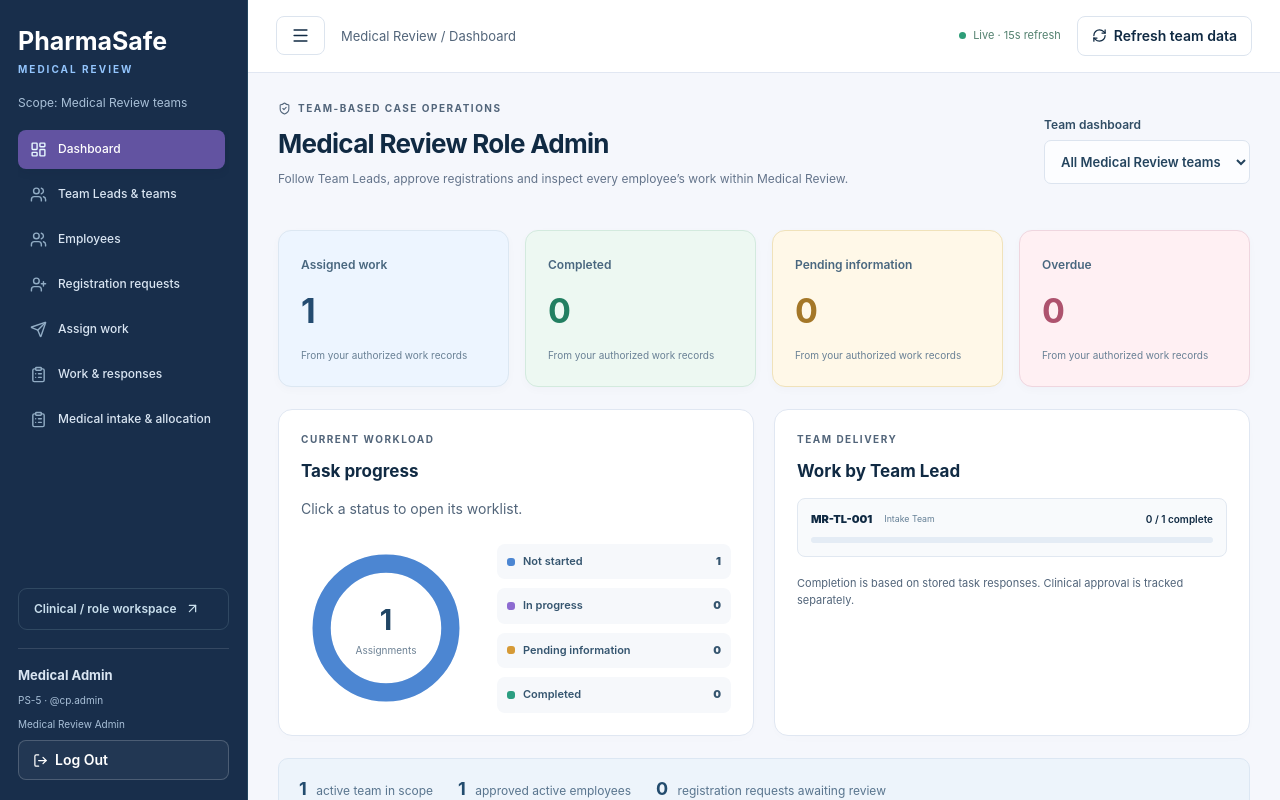
Scenario: admin creates a separate Team Lead account through the controlled form
Later steps or results of the test are not shown.
Click the button "Team Leads & teams" at coordinates (122, 195), box [18,175,225,214]
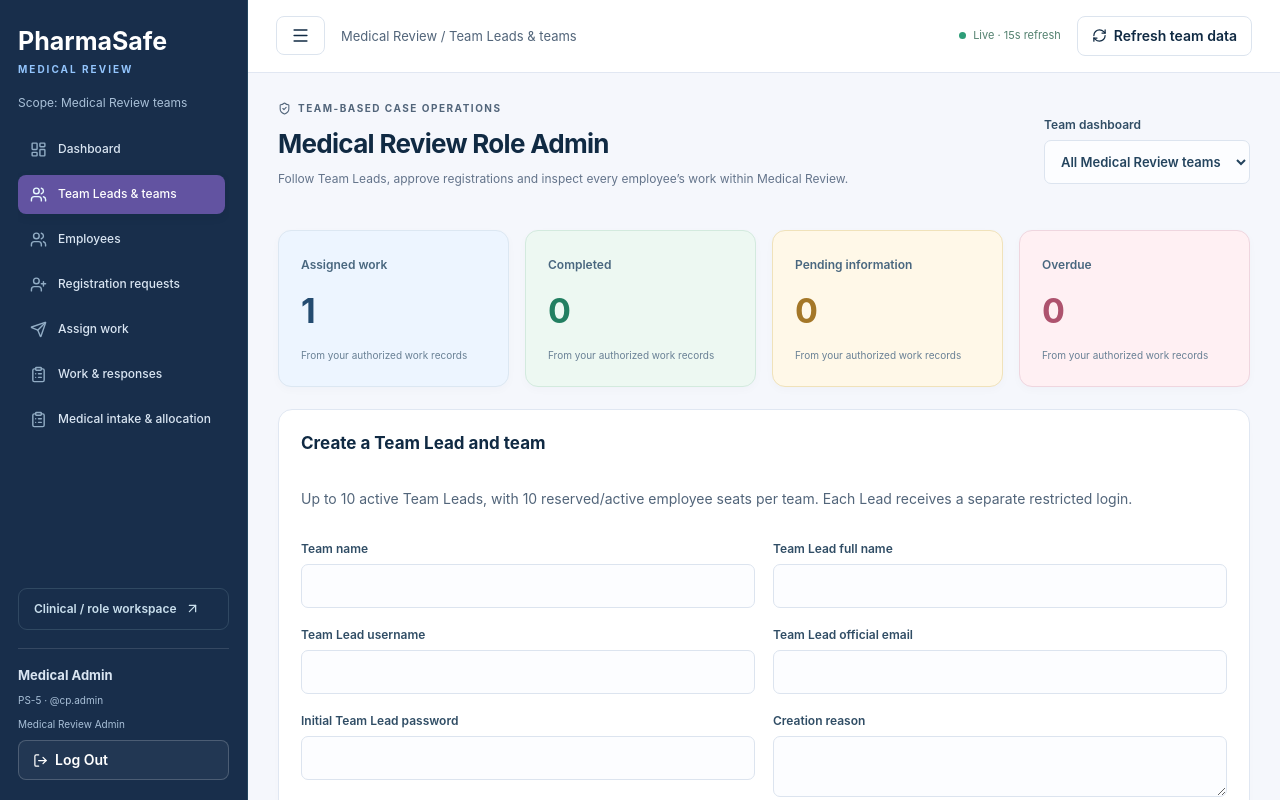
Check: the heading "Create a Team Lead and team" is shown, box [301,433,546,453]
